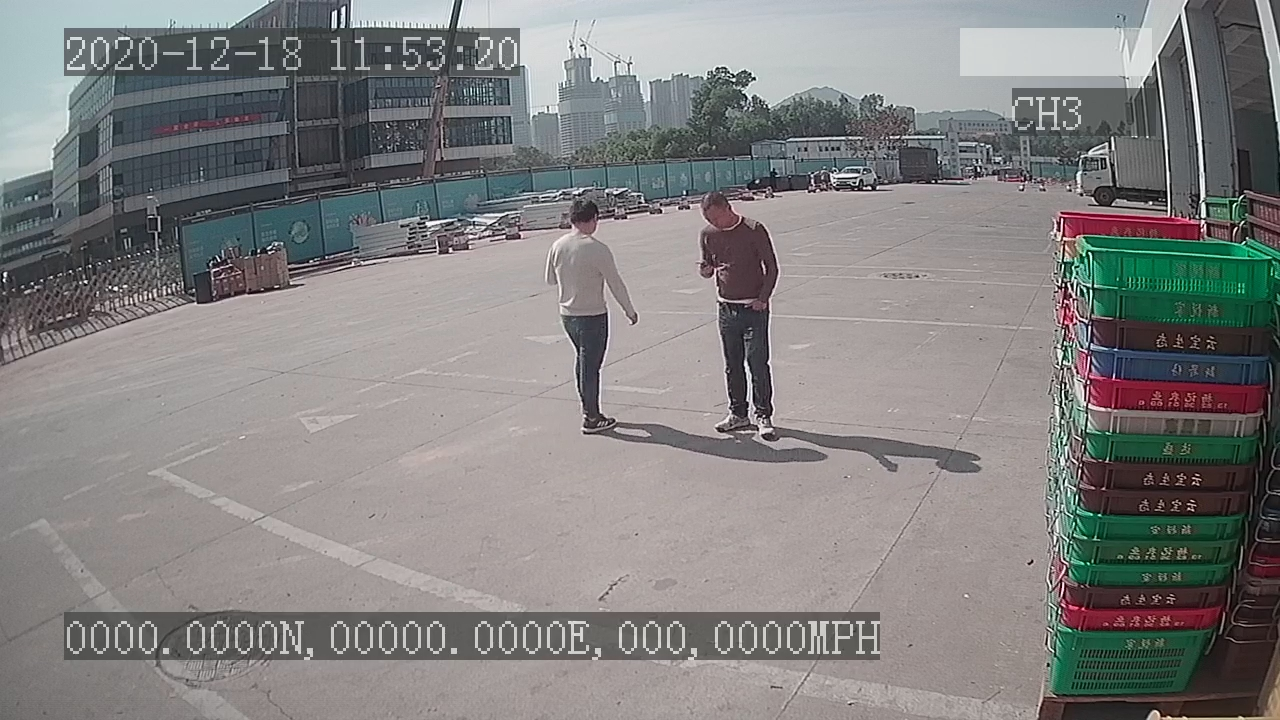person: (686, 181, 790, 445), (538, 194, 643, 442)
